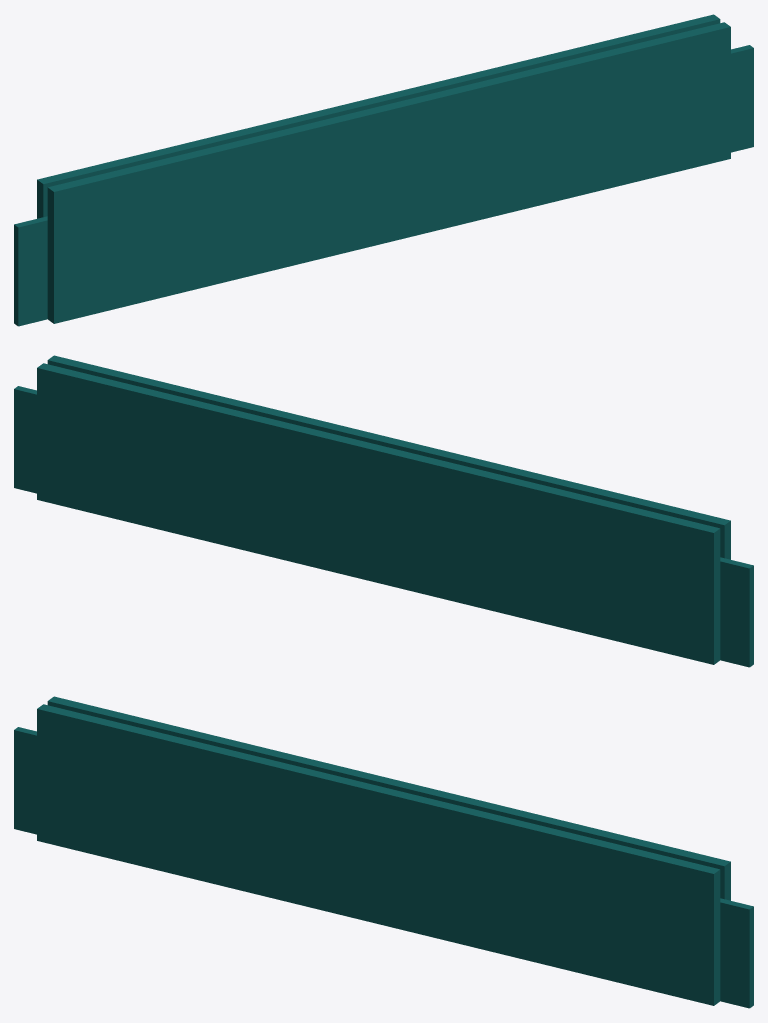
Rendered from original-109.obj.
3 views of the same model, one above another, from view 1: azimuth 30°, elevation 25°; view 2: azimuth 150°, elevation 25°; view 3: azimuth 330°, elevation 25° (orthographic).
Visible parts, largest first — view 1: Door_Rail_3/Door_Rail_12/mesh116/mesh116-geometry#mesh116-geomet; view 2: Door_Rail_3/Door_Rail_12/mesh116/mesh116-geometry#mesh116-geomet; view 3: Door_Rail_3/Door_Rail_12/mesh116/mesh116-geometry#mesh116-geomet.
Part boxes in pixels (bbox=[...]): Door_Rail_3/Door_Rail_12/mesh116/mesh116-geometry#mesh116-geomet: bbox=[14, 14, 753, 326]; Door_Rail_3/Door_Rail_12/mesh116/mesh116-geometry#mesh116-geomet: bbox=[14, 355, 753, 667]; Door_Rail_3/Door_Rail_12/mesh116/mesh116-geometry#mesh116-geomet: bbox=[14, 696, 753, 1008].
Bounding box in the file's own units: 0.423 × 0.0725 × 0.0169.
